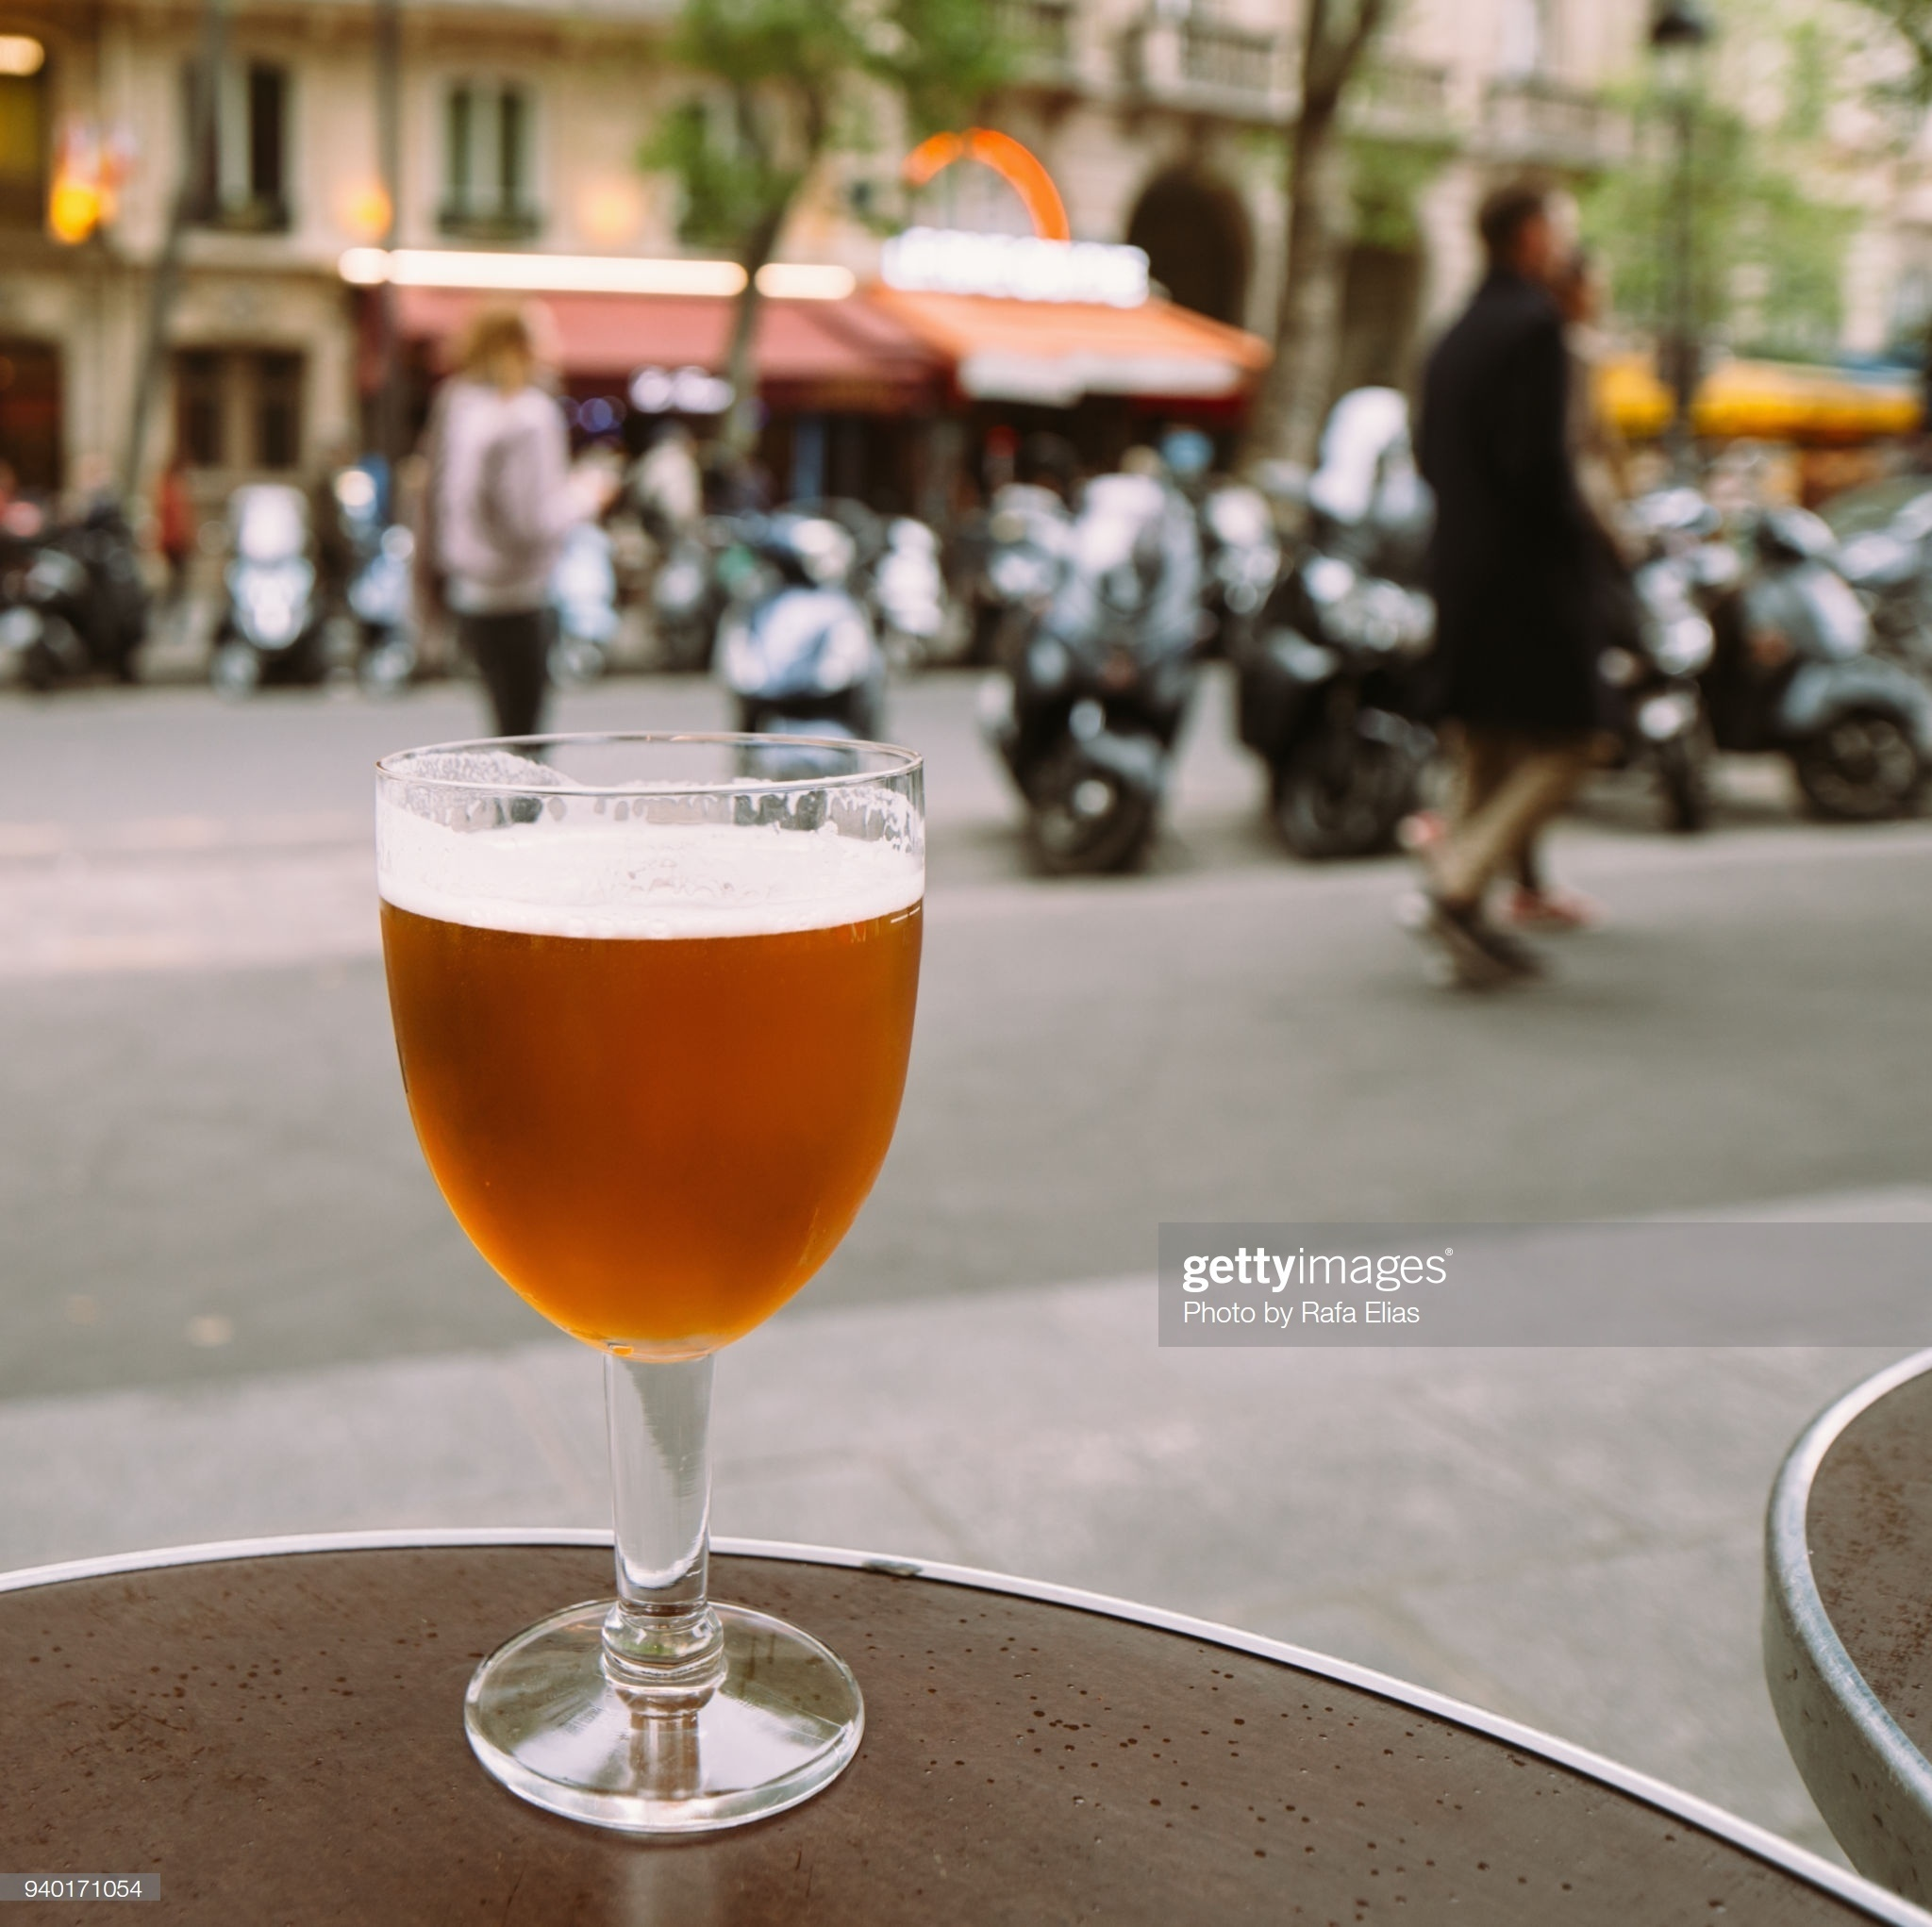whiskey: (395, 727, 910, 1729)
